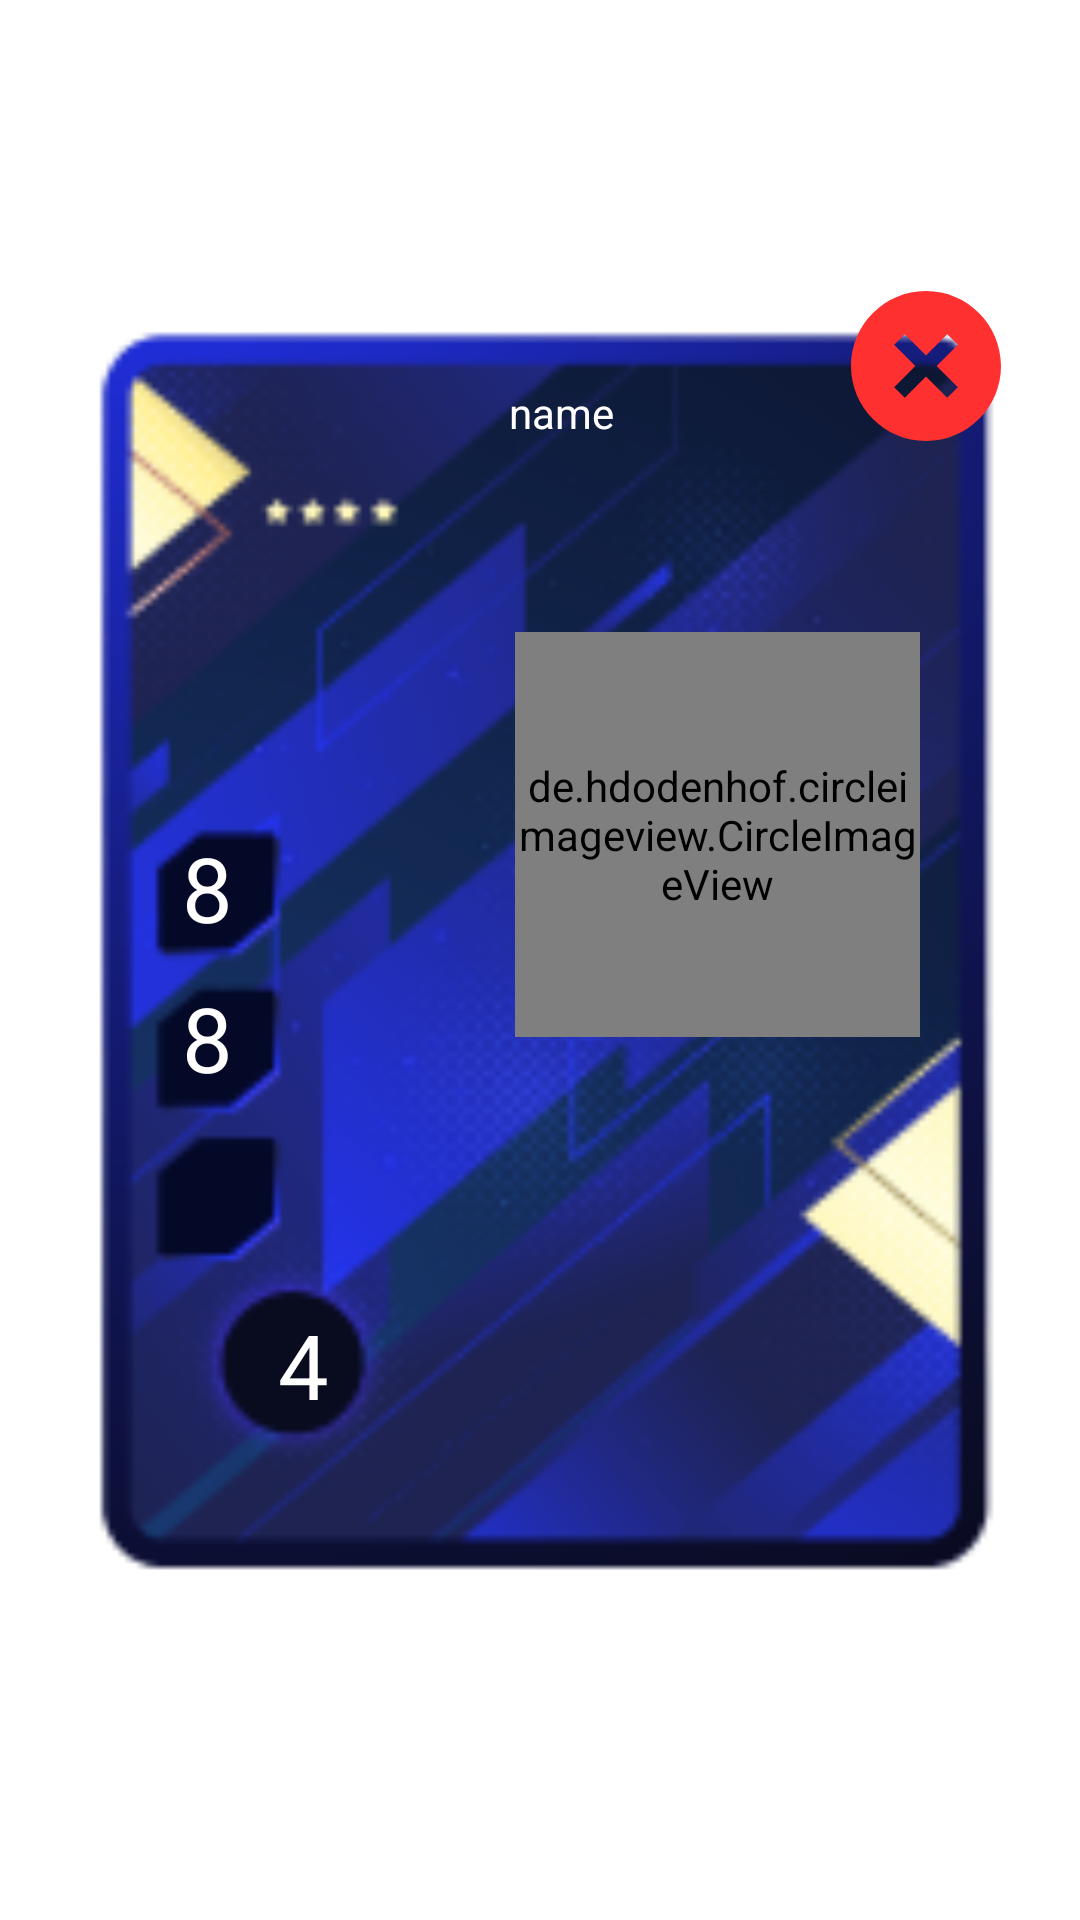

Point at icon controls on the screen. Image size 1080×1920, points as point (x, y).
close: point (926, 366)
